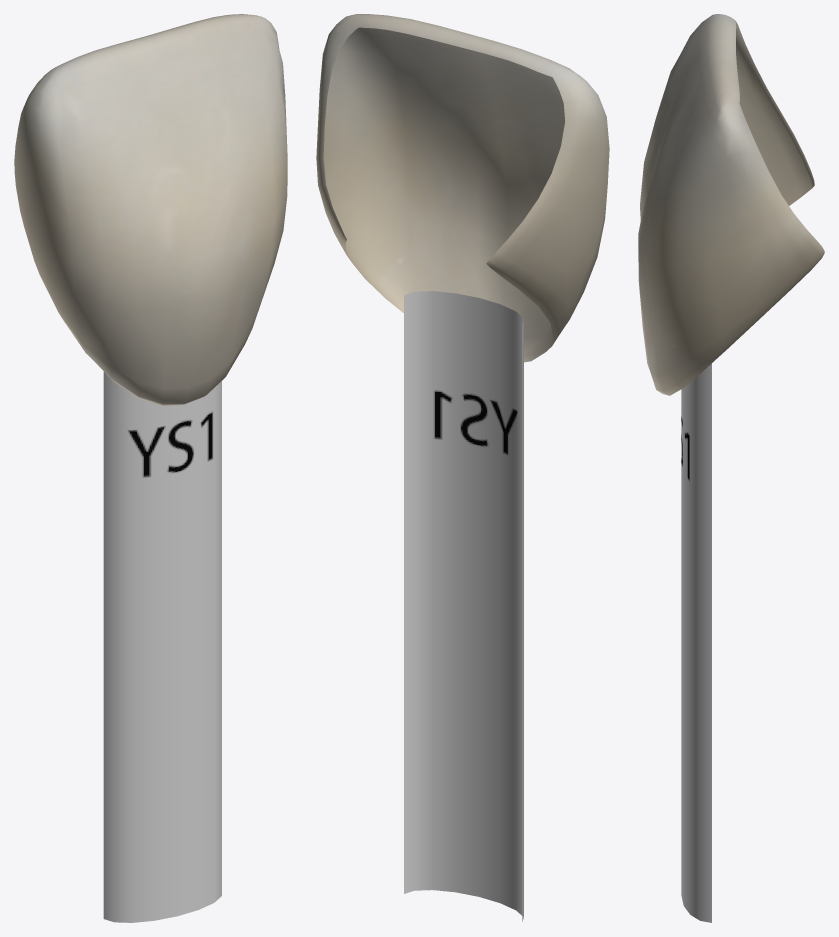
3 renders of one model, left to right at view 1: azimuth 30°, elevation 25°; view 2: azimuth 150°, elevation 25°; view 3: azimuth 270°, elevation 25°, orthographic. The views are drawn at different scales.
Parts seen in each view (by area): view 1: Tab; view 2: Tab; view 3: Tab.
Boxes of the visible parts, x1,y1,x2,y2 form: Tab: (14, 14, 287, 922); Tab: (316, 14, 609, 921); Tab: (638, 14, 824, 922).
Size of the model in its own units: 0.00859 by 0.0273 by 0.00547.
1 material, 1 textured.
